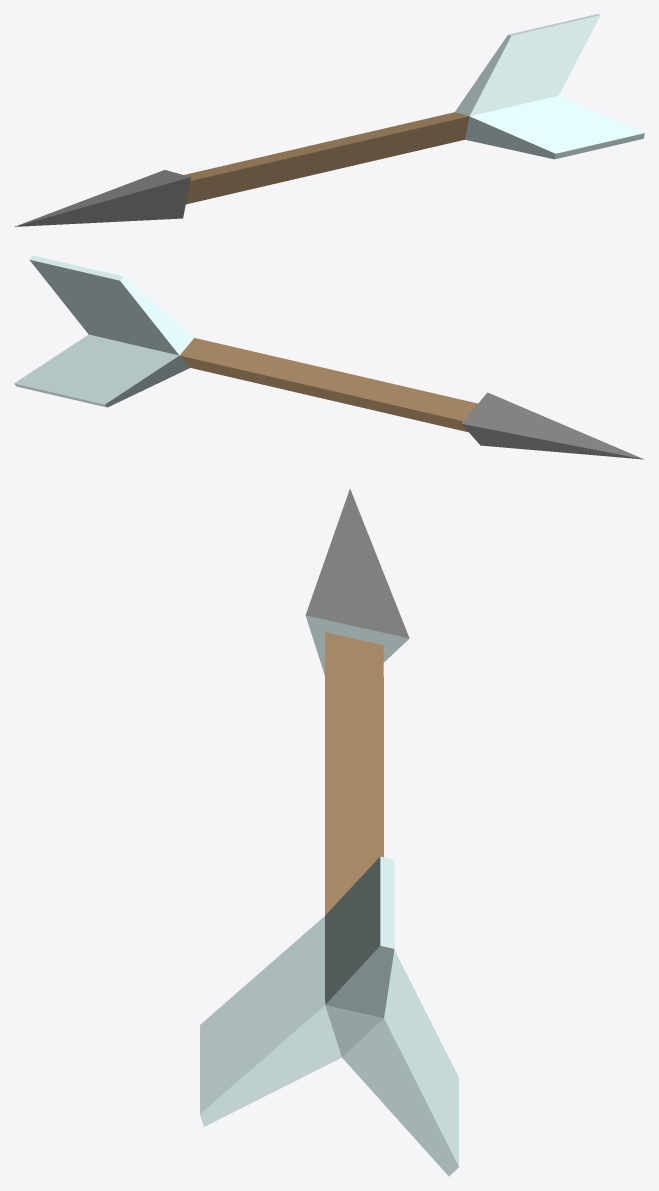
File: taUtZ.fbx
3 views of the same model, one above another, from view 1: azimuth 30°, elevation 25°; view 2: azimuth 150°, elevation 25°; view 3: azimuth 270°, elevation 25° (orthographic). The views are drawn at different scales.
Parts seen in each view (by area): view 1: Arrrow; view 2: Arrrow; view 3: Arrrow.
Boxes of the visible parts, box(x1,y1,x2,y2) form: Arrrow: box(14, 14, 644, 226); Arrrow: box(14, 255, 644, 459); Arrrow: box(200, 489, 458, 1176).
Bounding box in the file's own units: 163 × 30.68 × 30.77.
